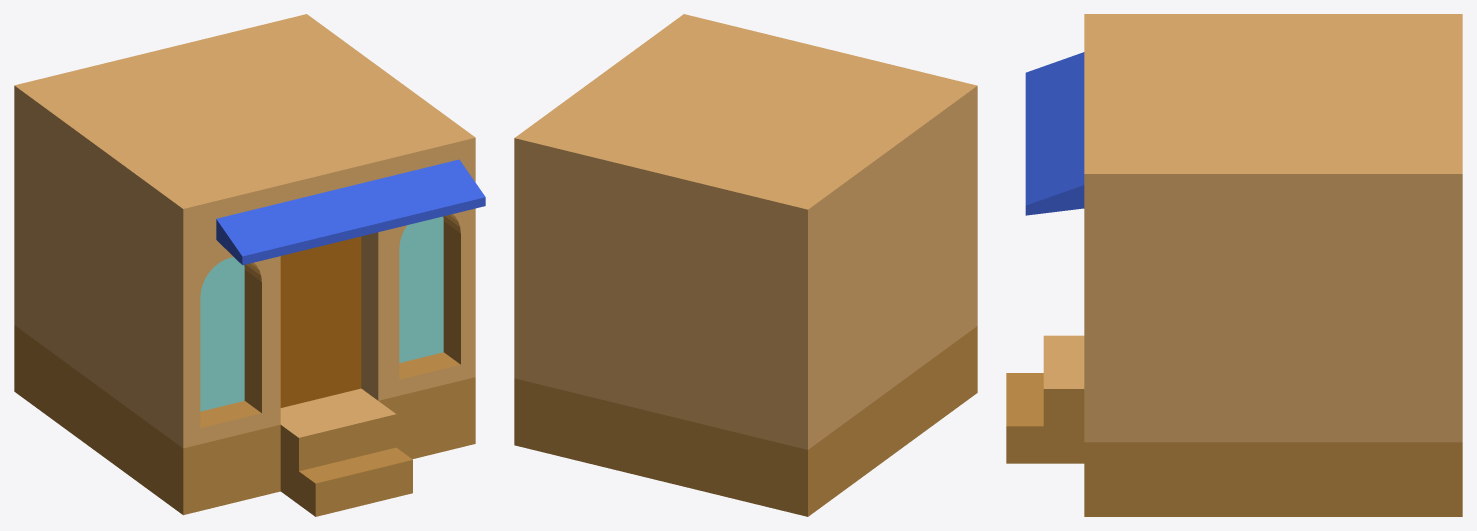
The model's file is buildingsbase5.fbx.
3 views of the same model, side by side, from view 1: azimuth 30°, elevation 25°; view 2: azimuth 150°, elevation 25°; view 3: azimuth 270°, elevation 25° (orthographic). The views are drawn at different scales.
Visible parts, largest first — view 1: base7; view 2: base7; view 3: base7.
Part boxes in pixels (left/top/right/bottom): base7: left=14, top=14, right=485, bottom=516; base7: left=514, top=14, right=977, bottom=516; base7: left=1006, top=14, right=1462, bottom=516.
Size of the model in its own units: 100 by 100 by 121.
